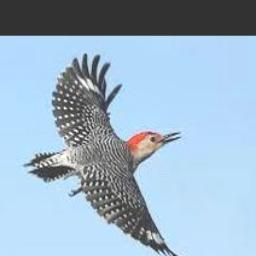Woodpecker: (23, 53, 203, 256)
